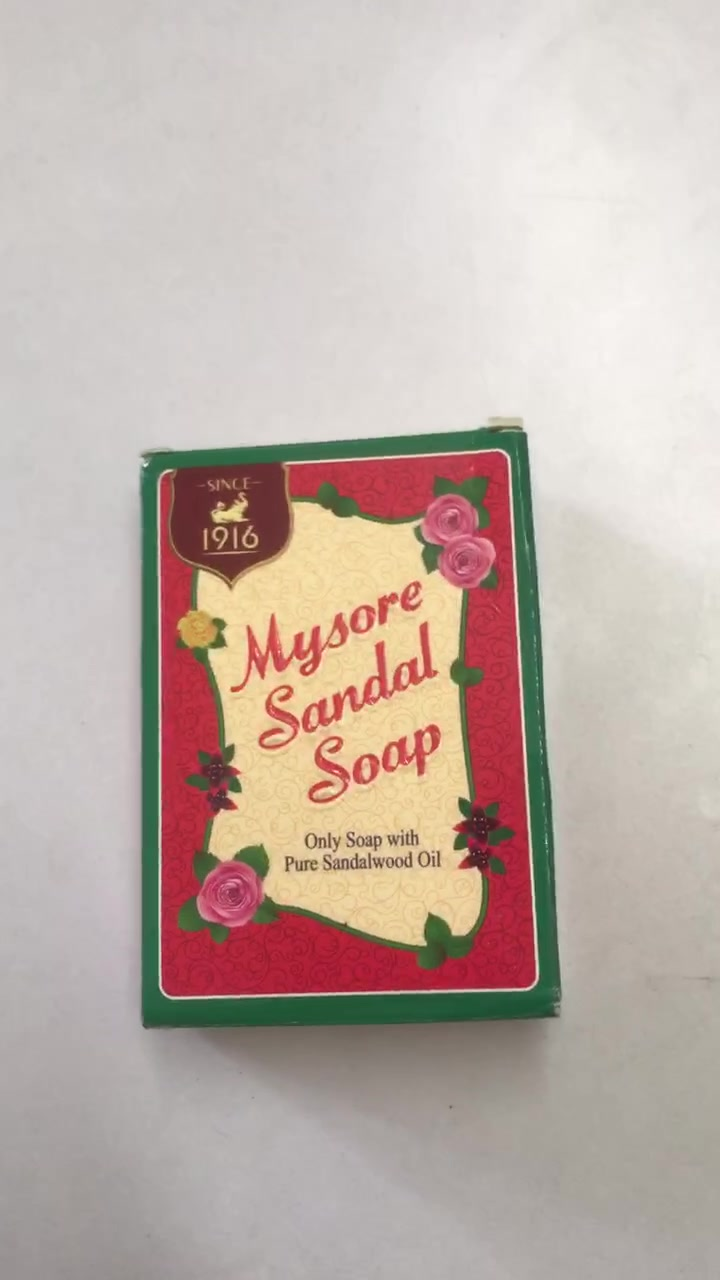mysore sandal soap: (134, 420, 566, 1025)
